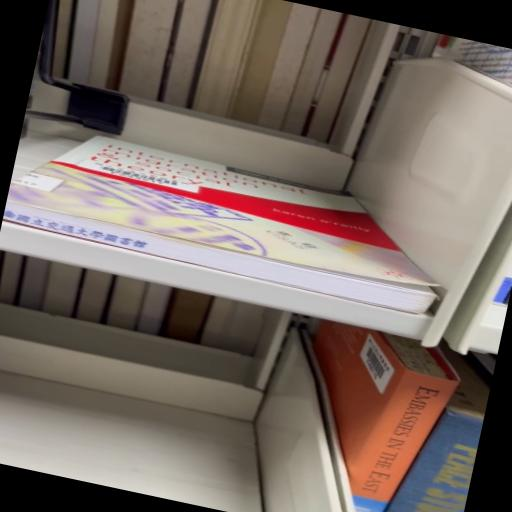flat: (3, 137, 437, 314)
